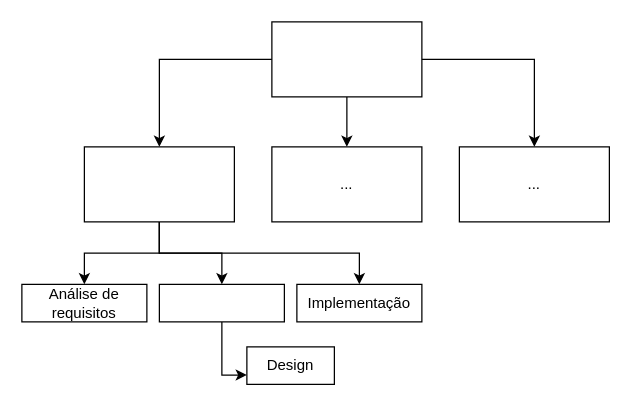
This 631x408 diagram has some shape labels left out. The centre of each missing label's shape, as x and y in pixels:
"Componente visual" goes at point (158, 184).
"Dynamic Blocks" goes at point (346, 59).
"Estrutura" goes at point (221, 302).
